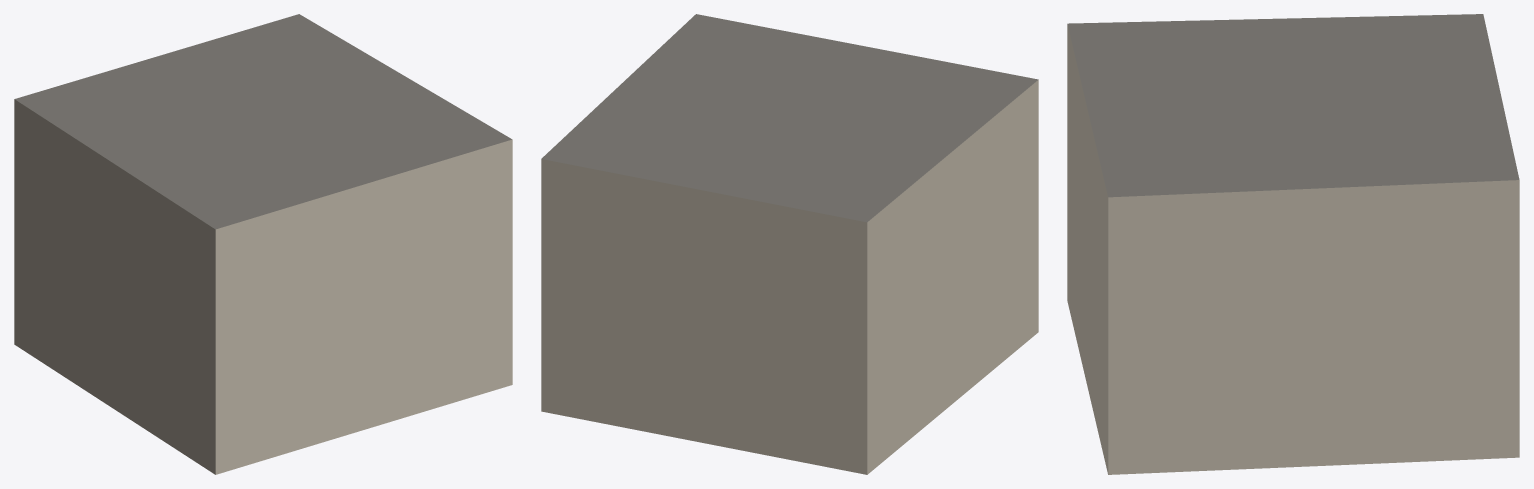
3 views of the same model, side by side, from view 1: azimuth 30°, elevation 25°; view 2: azimuth 150°, elevation 25°; view 3: azimuth 270°, elevation 25° (orthographic). The views are drawn at different scales.
Visible parts, largest first — view 1: HP-w505643562; view 2: HP-w505643562; view 3: HP-w505643562.
Boxes of the visible parts, left/top/right/bottom form: HP-w505643562: left=14, top=14, right=512, bottom=474; HP-w505643562: left=541, top=14, right=1038, bottom=474; HP-w505643562: left=1067, top=14, right=1519, bottom=474.
Size of the model in its own units: 21.25 by 15 by 22.14.
